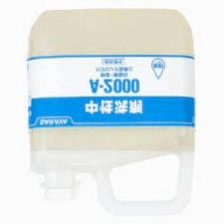cleaning_solution: (24, 3, 199, 219)
